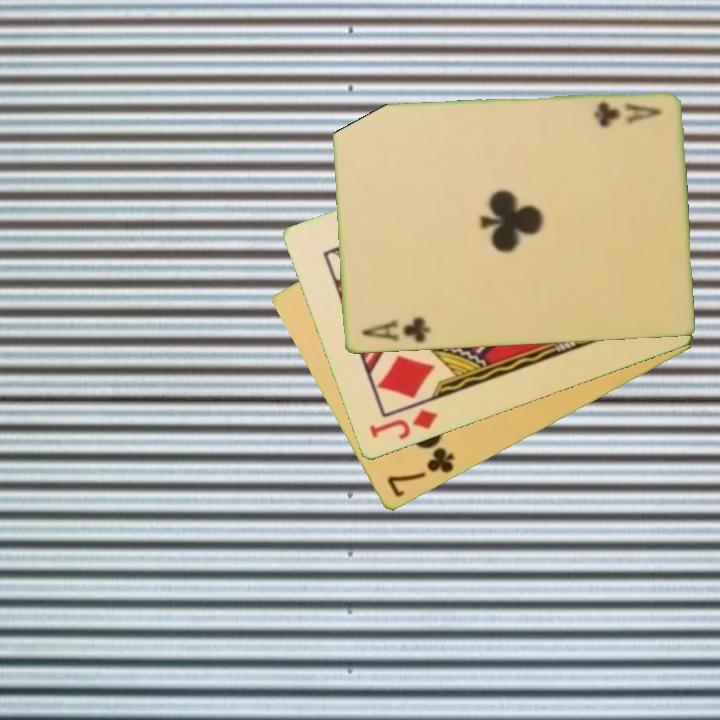7c: (383, 444, 458, 501)
Ac: (358, 314, 433, 346), (589, 99, 664, 131)
Jd: (366, 406, 441, 443)
